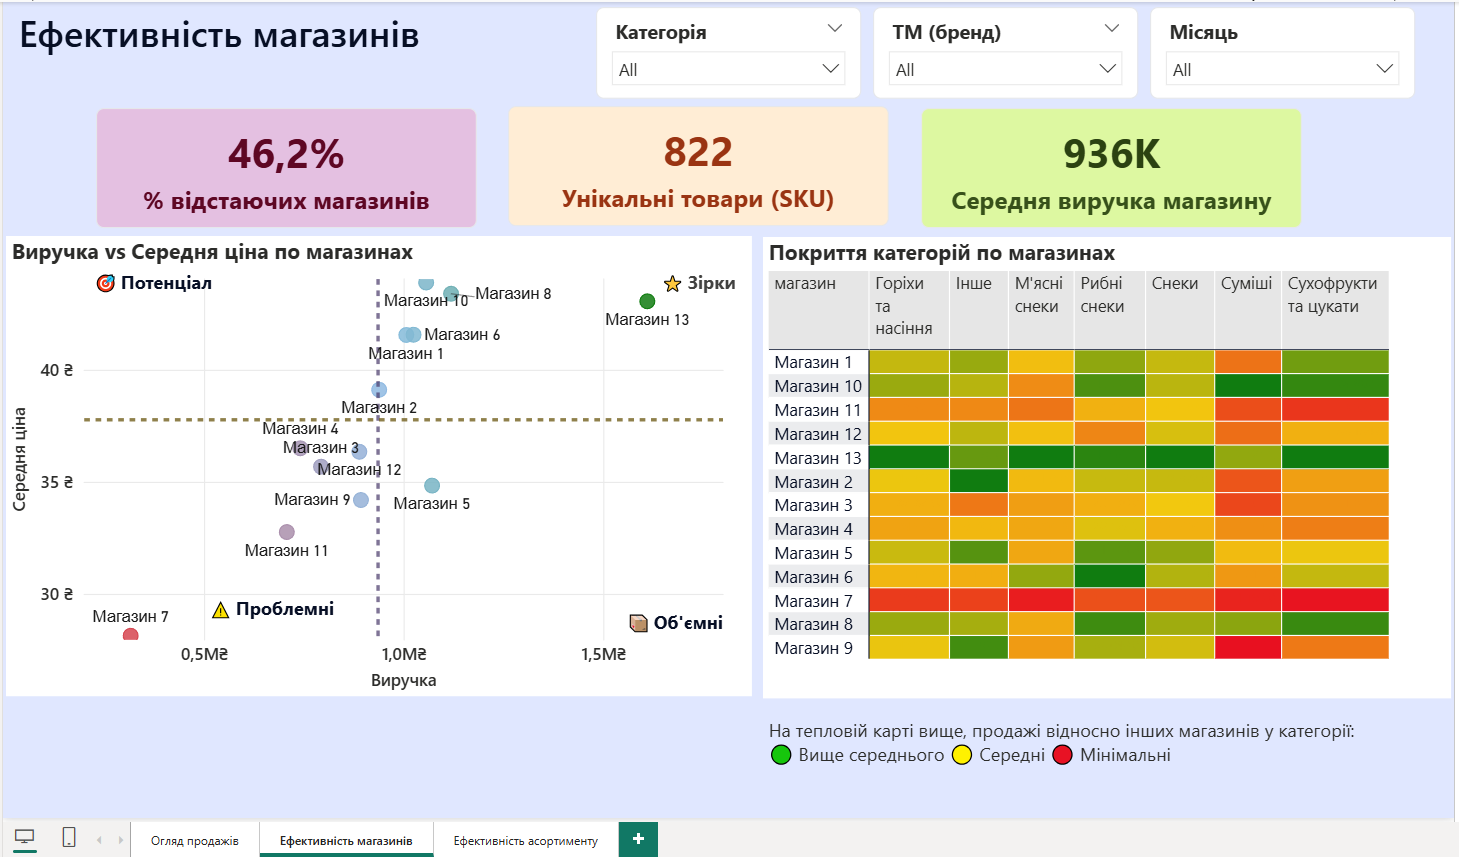

The page's visual inventory and layout, read from the dashboard file:
{"tool":"powerbi","page":{"name":"Ефективність магазинів","canvas":[1280,720],"ordinal":1},"visuals":[{"type":"slicer","fields":{"Values":["довідник.Категорія"]},"box":[522.9,4.3,234.3,81.4],"z":0},{"type":"scatterChart","title":"Виручка vs Середня ціна по магазинах","fields":{"X":["_Measures.Виручка"],"Y":["_Measures.Середня ціна"],"Category":["продажі_всі.магазин"]},"box":[2.5,206.2,657.5,406.2],"z":0,"group":"g1"},{"type":"slicer","fields":{"Values":["довідник.ТМ"]},"box":[767.1,4.3,234.3,81.4],"z":1000},{"type":"textbox","box":[8.6,0,428.6,62.9],"z":2000},{"type":"slicer","fields":{"Values":["DimDate.Місяць"]},"box":[1011.4,4.3,234.3,81.4],"z":3000},{"type":"card","title":"Виручка","fields":{"Values":["_Measures.% магазинів нижче середньої виручки"]},"box":[81.8,93.5,336,106],"z":4000},{"type":"card","title":"Виручка","fields":{"Values":["_Measures.Середня кількість SKU на магазин"]},"box":[445.8,91.5,336,106],"z":5000},{"type":"card","title":"Виручка","fields":{"Values":["_Measures.Середня виручка магазину"]},"box":[809.8,93.5,336,106],"z":6000},{"type":"group","id":"g1","title":"Group 1","box":[2.5,206.2,657.5,406.2],"z":7000},{"type":"pivotTable","title":"Покриття категорій по магазинах","fields":{"Rows":["продажі_всі.магазин"],"Columns":["DimDictionary.Категорія"],"Values":["_Measures.Виручка"]},"box":[670.4,206.9,606.6,406.8],"z":8000},{"type":"textbox","box":[576.1,231.3,83.9,43.5],"z":8000,"group":"g1"},{"type":"textbox","box":[75.4,231.3,123.8,43.5],"z":9000,"group":"g1"},{"type":"textbox","box":[670.4,626.5,609.4,68],"z":9000},{"type":"textbox","box":[177.5,518.4,130,43.8],"z":10000,"group":"g1"},{"type":"textbox","box":[545.8,530.5,105.9,43.5],"z":11000,"group":"g1"}]}

Visuals, with their boxes on the page's 1280x720 design canvas (x1, y1, x2, y2). These are canvas units, not pixel positions in the 1459x857 screenshot, which may show the page scaled, cropped or inside an application window:
slicer - довідник.Категорія: [left=523, top=4, right=757, bottom=86]
"Виручка vs Середня ціна по магазинах" scatterChart: [left=2, top=206, right=660, bottom=612]
slicer - довідник.ТМ: [left=767, top=4, right=1001, bottom=86]
textbox: [left=9, top=0, right=437, bottom=63]
slicer - DimDate.Місяць: [left=1011, top=4, right=1246, bottom=86]
"Виручка" card: [left=82, top=94, right=418, bottom=200]
"Виручка" card: [left=446, top=92, right=782, bottom=198]
"Виручка" card: [left=810, top=94, right=1146, bottom=200]
"Group 1" group: [left=2, top=206, right=660, bottom=612]
"Покриття категорій по магазинах" pivotTable: [left=670, top=207, right=1277, bottom=614]
textbox: [left=576, top=231, right=660, bottom=275]
textbox: [left=75, top=231, right=199, bottom=275]
textbox: [left=670, top=626, right=1280, bottom=694]
textbox: [left=178, top=518, right=308, bottom=562]
textbox: [left=546, top=530, right=652, bottom=574]
